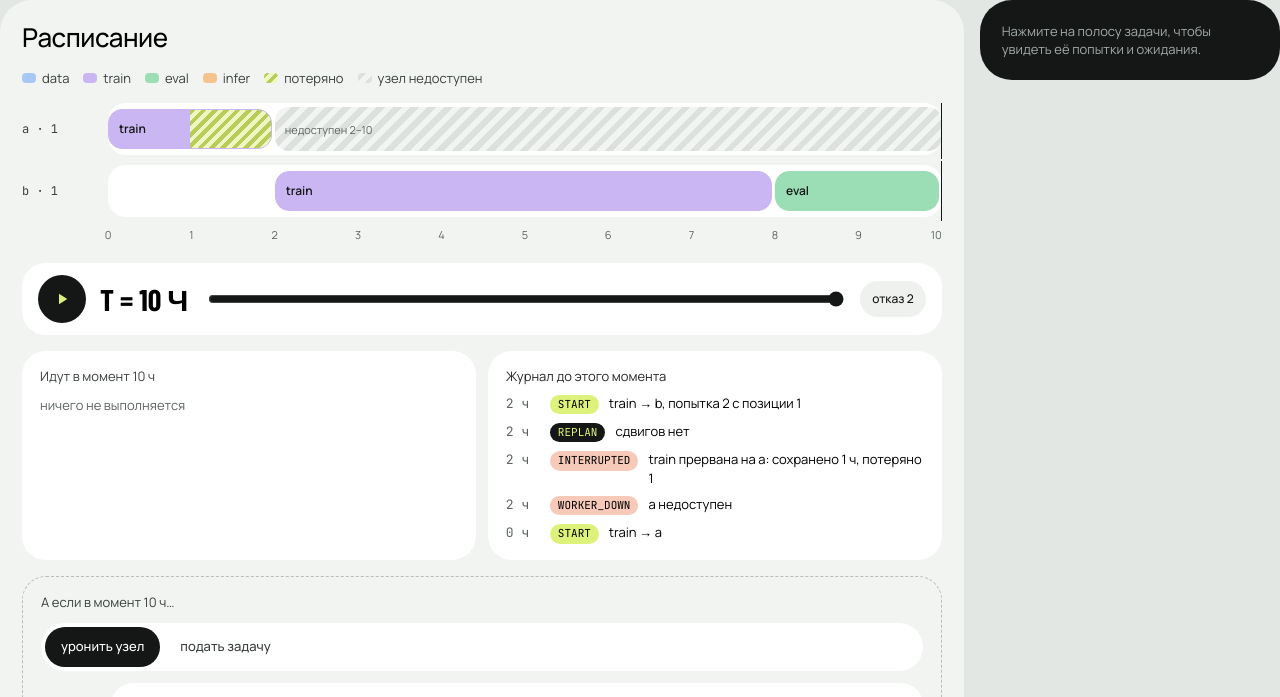
Schedule › draws lanes and phases, jumps to a moment and shows the journal up to it
expect the text "недоступен 2–10" is shown: met, box [275,107,942,151]
Click the button "отказ 2" at (893, 299), box [860,281,926,317]
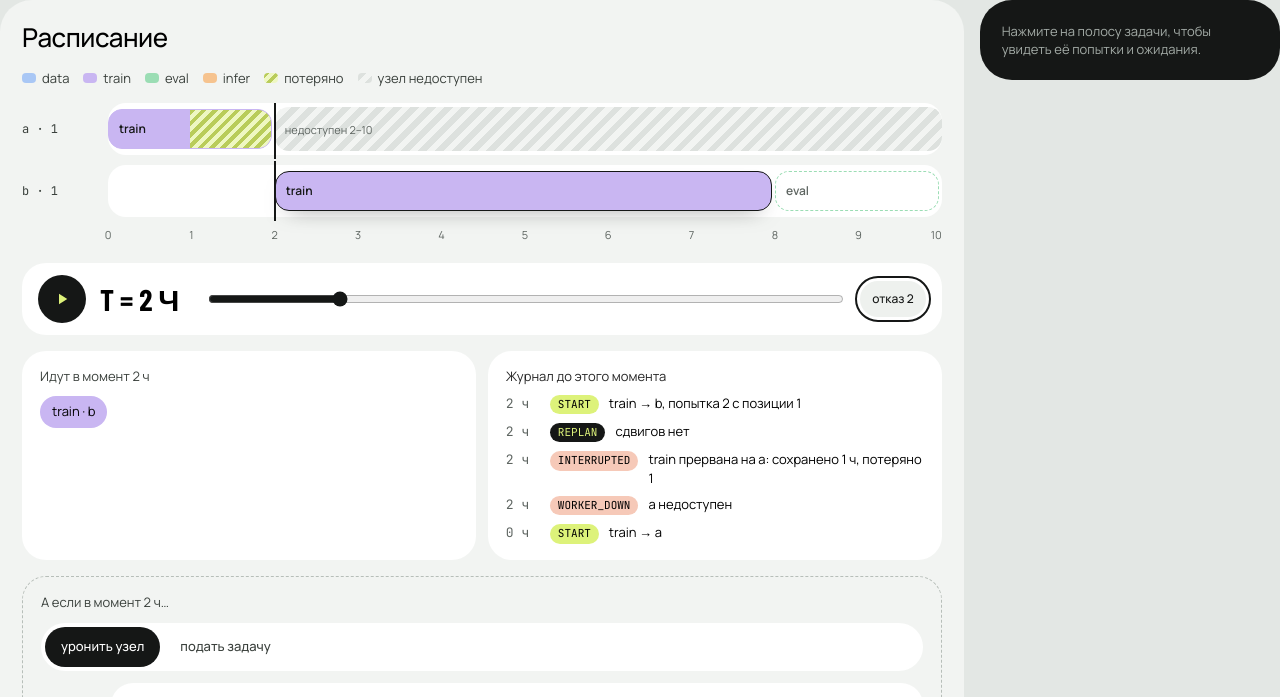
expect the text "train → b, попытка 2 с позиции 1" is shown: met, box [609,394,802,412]
expect the text "T = 2 Ч" is shown: met, box [100,284,192,314]
expect the text "train · b" is shown: met, box [40,396,108,428]
